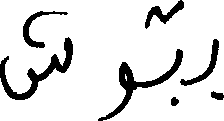ب: (167, 0, 183, 107), (205, 36, 222, 100)
ش: (0, 8, 73, 100)
و: (96, 60, 134, 120)
